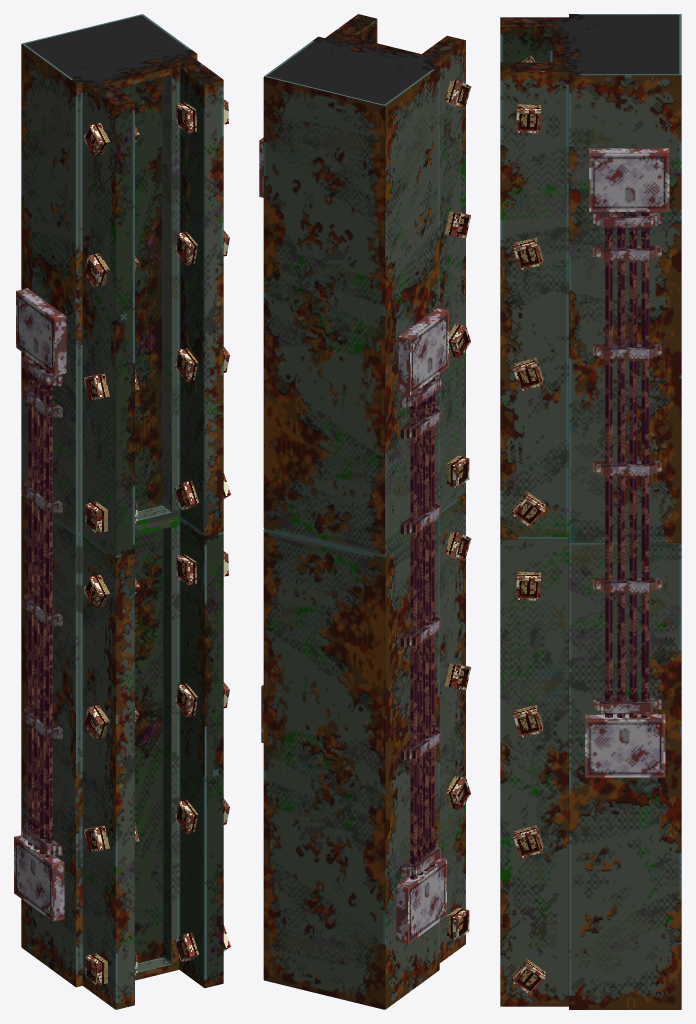
Rendered from DoublePillarWired.fbx.
3 renders of one model, left to right at view 1: azimuth 30°, elevation 25°; view 2: azimuth 150°, elevation 25°; view 3: azimuth 270°, elevation 25°, orthographic. The views are drawn at different scales.
Visible parts, largest first — view 1: Pilar, Pilar_1, Finalizer_1, Finalizer, Cable_1, Cable_2, Cable, Cable_3, Bolt_5, Bolt_12, Bolt_13, Bolt_4 (+12 smaller); view 2: Pilar, Pilar_1, Finalizer_1, Finalizer, Cable_1, Cable_2, Cable, Cable_3, Bolt_8, Bolt, Bolt_9, Bolt_1 (+4 smaller); view 3: Pilar, Pilar_1, Finalizer_2, Finalizer_3, Cable_4, Cable_5, Cable_6, Cable_7, Bolt_14, Bolt_6, Bolt_5, Bolt_13 (+4 smaller).
Part boxes in pixels (x1,y1,x2,y2): Pilar: (21, 14, 223, 557); Pilar_1: (21, 496, 223, 1009); Finalizer_1: (16, 288, 66, 395); Finalizer: (14, 816, 64, 921); Cable_1: (22, 590, 62, 717); Cable_2: (22, 703, 62, 829); Cable: (22, 477, 62, 604); Cable_3: (22, 382, 62, 503); Bolt_5: (175, 347, 229, 381); Bolt_12: (175, 682, 229, 717); Bolt_13: (175, 798, 229, 833); Bolt_4: (175, 230, 229, 265); Pilar: (263, 14, 465, 557); Pilar_1: (263, 492, 465, 1009); Finalizer_1: (398, 308, 448, 417); Finalizer: (396, 837, 446, 944); Cable_1: (400, 612, 441, 738); Cable_2: (400, 724, 441, 851); Cable: (400, 499, 441, 625); Cable_3: (400, 403, 441, 524); Bolt_8: (446, 907, 469, 939); Bolt: (446, 455, 469, 487); Bolt_9: (444, 775, 470, 810); Bolt_1: (449, 323, 470, 358); Pilar: (500, 14, 681, 542); Pilar_1: (500, 539, 681, 1009); Finalizer_2: (589, 148, 669, 239); Finalizer_3: (585, 688, 665, 777); Cable_4: (593, 570, 661, 688); Cable_5: (593, 454, 661, 571); Cable_6: (593, 337, 661, 454); Cable_7: (593, 239, 661, 347); Bolt_14: (511, 958, 545, 995); Bolt_6: (511, 491, 545, 527); Bolt_5: (513, 357, 543, 391); Bolt_13: (513, 825, 543, 858).
Bounding box in the file's own units: 136 × 800 × 141.
